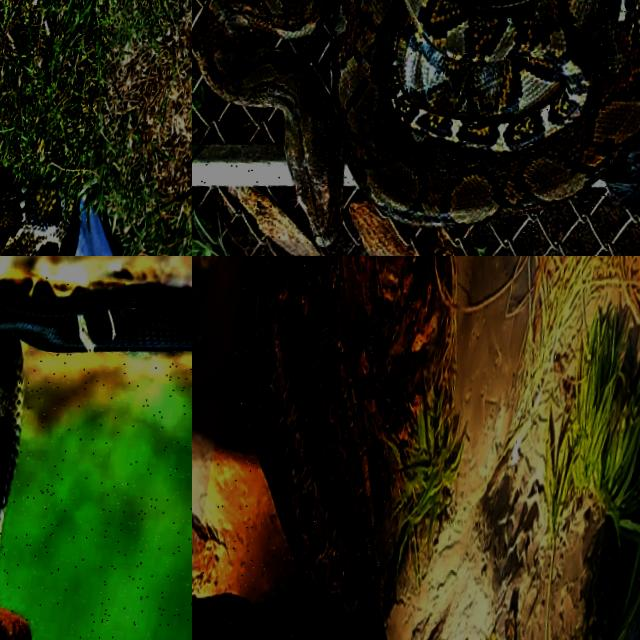Malayopython reticulatus: (196, 0, 639, 244)
Naja kaouthia: (0, 284, 191, 530)
Python bivittatus: (237, 256, 382, 639), (0, 176, 76, 255)
